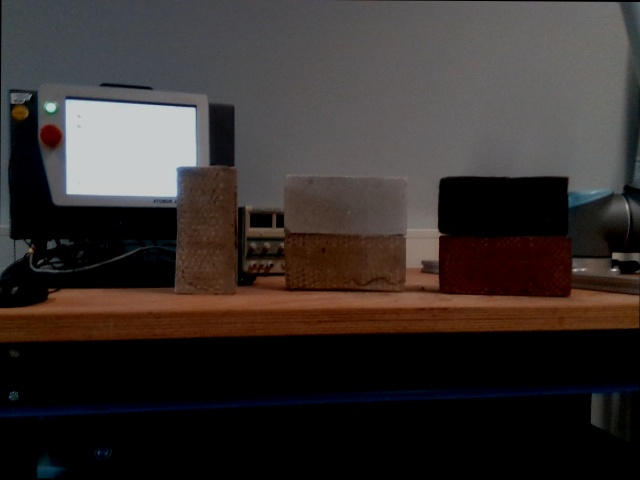brick: (175, 168, 236, 292), (443, 237, 570, 293), (440, 176, 566, 232), (282, 175, 409, 230), (285, 234, 402, 289)
